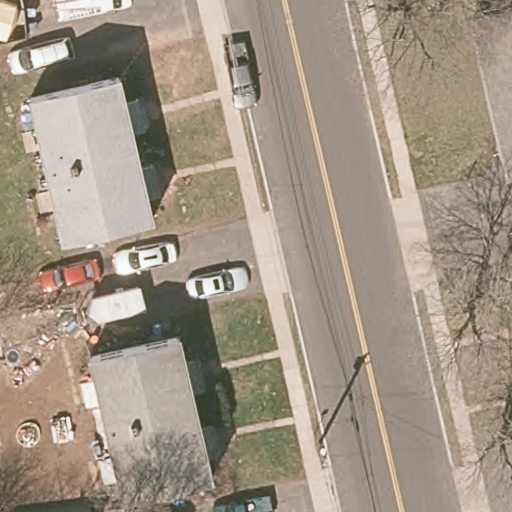DT: (317, 434, 331, 472)
